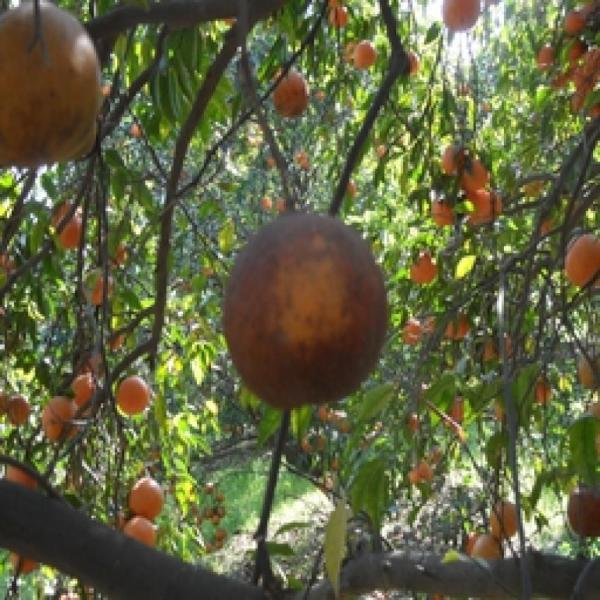Canker: (220, 208, 388, 410), (0, 0, 107, 163), (567, 483, 600, 533)
Sana: (37, 393, 82, 449), (561, 233, 600, 288), (270, 69, 312, 115), (123, 474, 167, 516), (114, 372, 153, 418), (488, 497, 527, 543), (76, 272, 118, 314), (438, 0, 486, 35), (461, 188, 503, 226), (406, 246, 440, 291), (68, 370, 102, 410), (457, 159, 494, 192), (55, 217, 87, 254), (441, 142, 474, 175), (123, 516, 157, 548), (428, 197, 460, 230), (440, 308, 473, 340), (470, 536, 506, 565), (352, 35, 378, 73), (6, 391, 32, 428), (50, 195, 80, 226), (322, 0, 354, 28), (463, 529, 488, 554), (401, 318, 424, 344)
